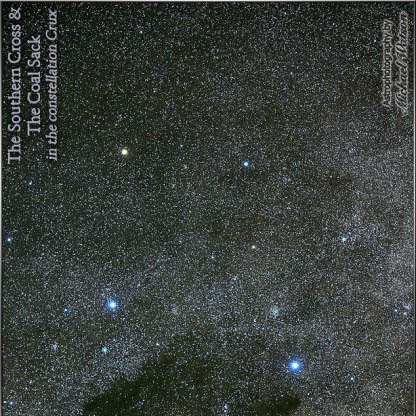Southern Cross: (97, 292, 127, 319), (112, 137, 137, 168), (283, 352, 308, 380), (235, 148, 258, 177)
